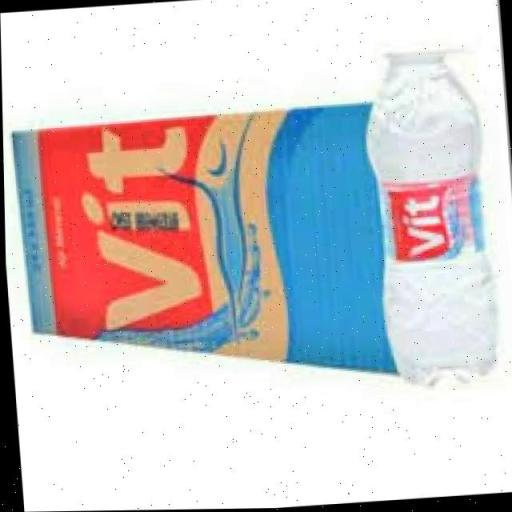plastic: (356, 20, 511, 402)
